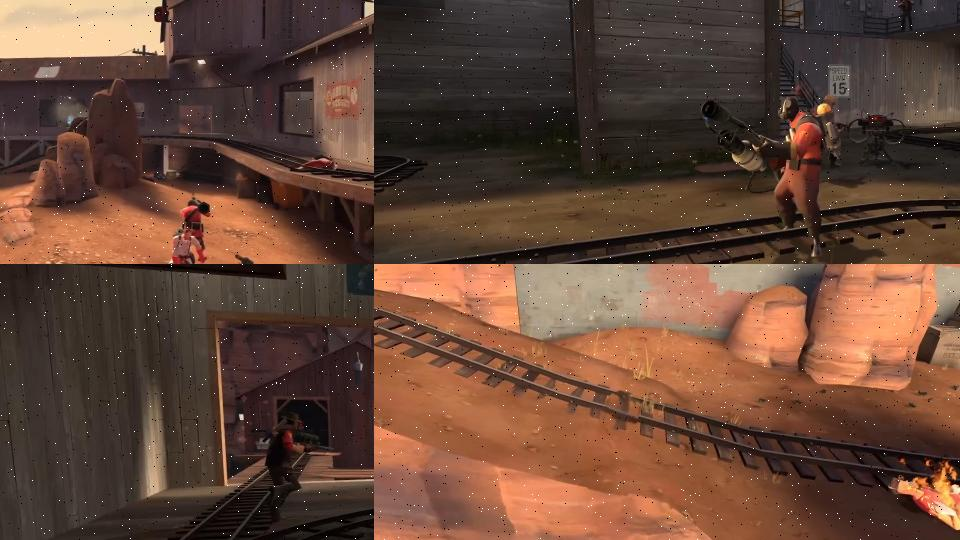Enemy: (702, 95, 841, 260), (261, 410, 340, 525), (887, 473, 960, 540), (180, 194, 210, 258), (157, 226, 204, 264), (897, 0, 914, 31)
